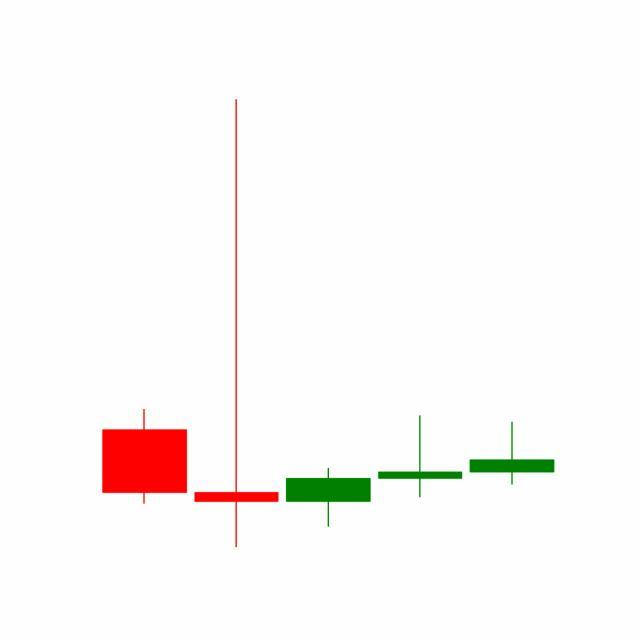Spinning Top: (374, 414, 468, 499)
